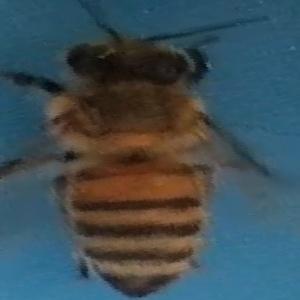bee: (3, 6, 278, 300)
